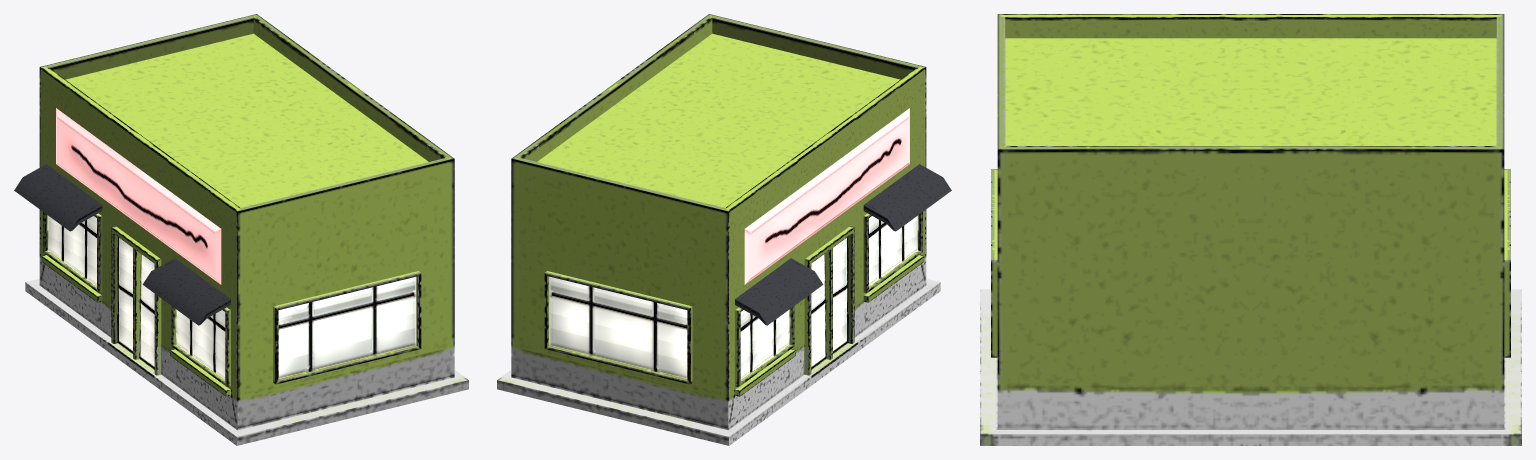
Rendered from Building2.fbx.
3 renders of one model, left to right at view 1: azimuth 30°, elevation 25°; view 2: azimuth 150°, elevation 25°; view 3: azimuth 270°, elevation 25°, orthographic. The views are drawn at different scales.
Visible parts, largest first — view 1: Building3:Building3:polySurface2; view 2: Building3:Building3:polySurface2; view 3: Building3:Building3:polySurface2.
Boxes of the visible parts, bbox=[...] form: Building3:Building3:polySurface2: bbox=[14, 14, 468, 445]; Building3:Building3:polySurface2: bbox=[497, 14, 951, 445]; Building3:Building3:polySurface2: bbox=[980, 14, 1521, 445].
Bounding box in the file's own units: 1058 × 896 × 1509.
